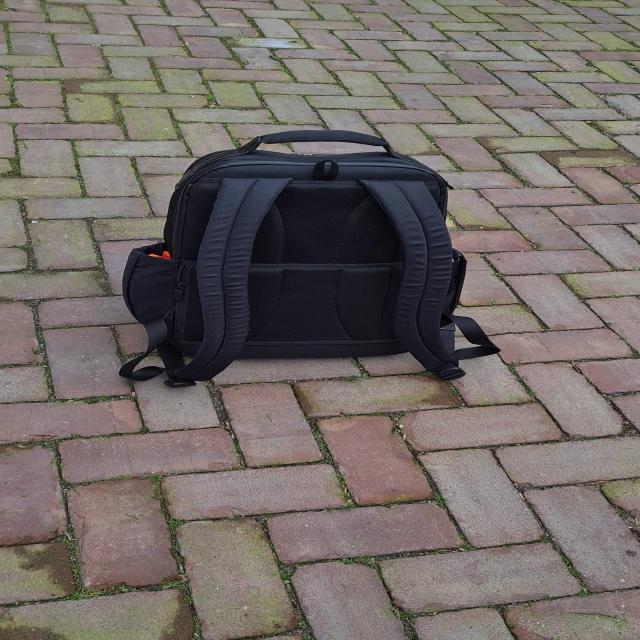backpack: (122, 127, 497, 394)
